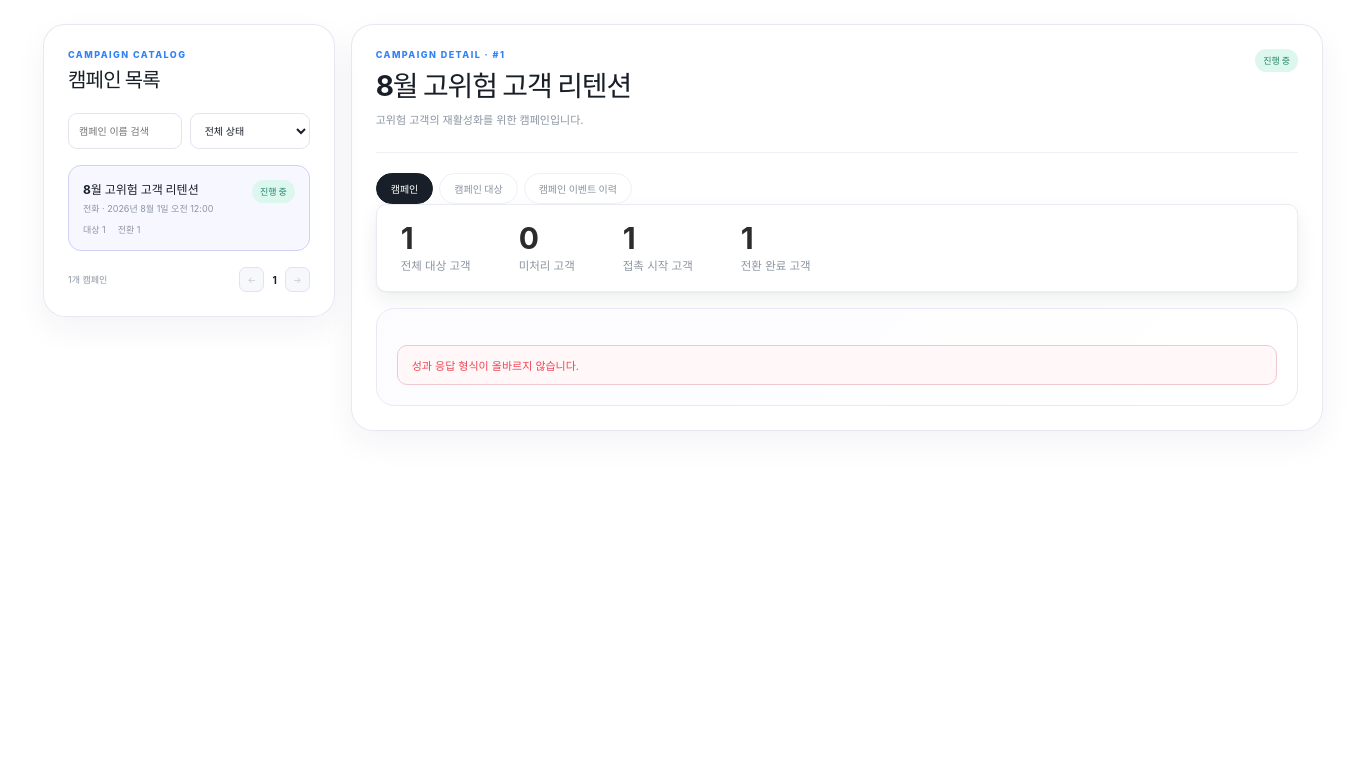
it: 캠페인 관리 화면 › 캠페인 통계·대상·이벤트 이력을 표시합니다
Expected: the text "8월 고위험 고객 리텐션" is shown 2 times, x1=83 y1=182 x2=199 y2=197; x1=376 y1=64 x2=631 y2=104
Click the tab "캠페인 대상" at (478, 188), box x1=439 y1=173 x2=518 y2=204
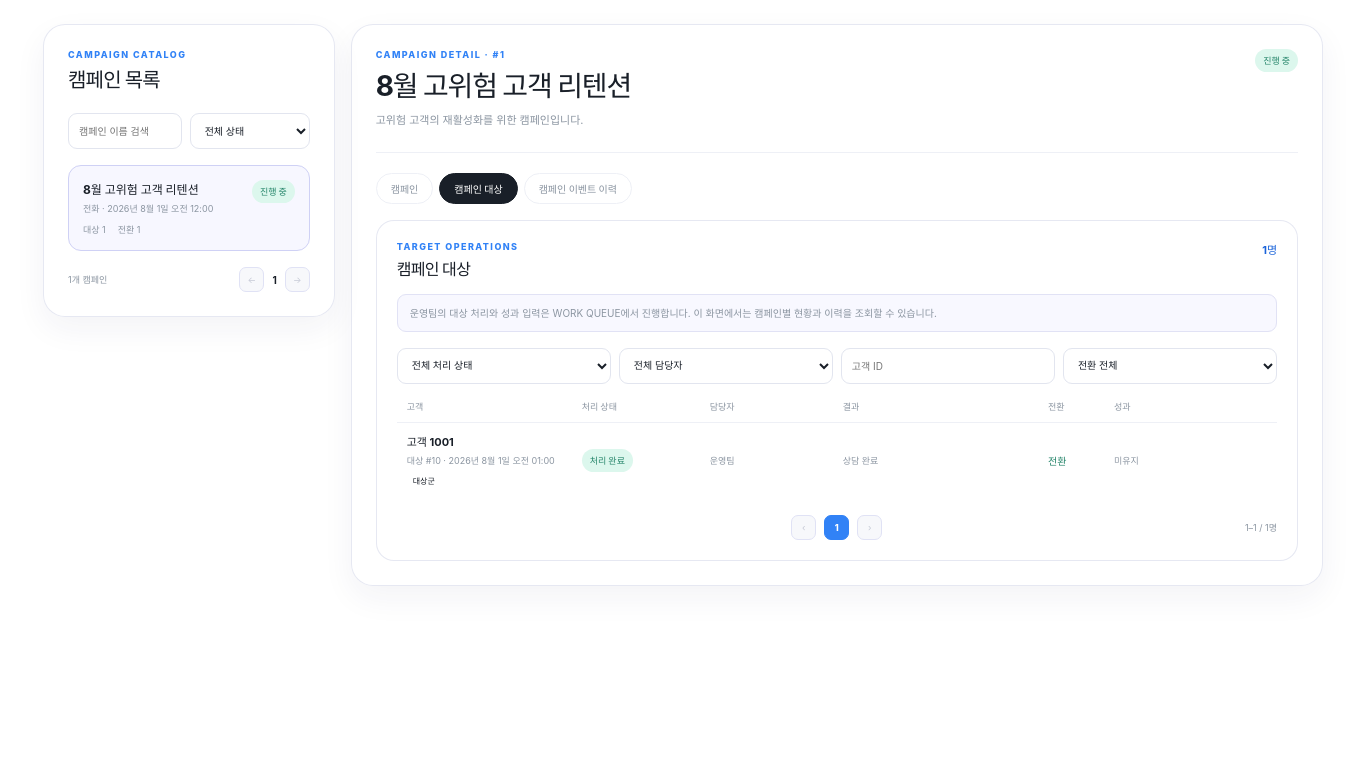
Expected: the text "고객 1001" is shown, x1=407 y1=435 x2=454 y2=449
Expected: the text "운영팀의 대상 처리와 성과 입력은 WORK QUEUE에서 진행합니다" is shown, x1=410 y1=307 x2=937 y2=319
Click the tab "캠페인 이벤트 이력" at (578, 188), box x1=524 y1=173 x2=632 y2=204
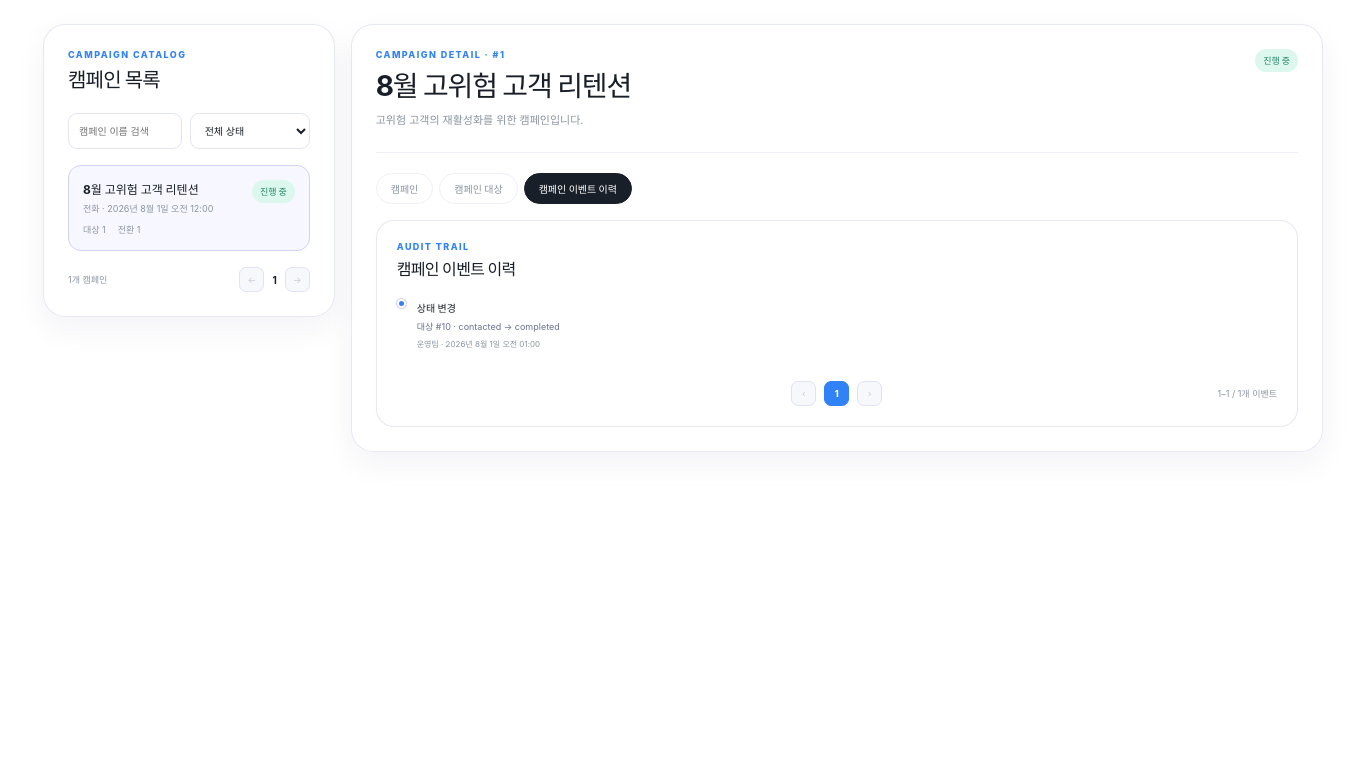
Expected: the heading "캠페인 이벤트 이력" is shown, x1=397 y1=256 x2=516 y2=280
Expected: the text "상태 변경" is shown, x1=417 y1=302 x2=456 y2=314
